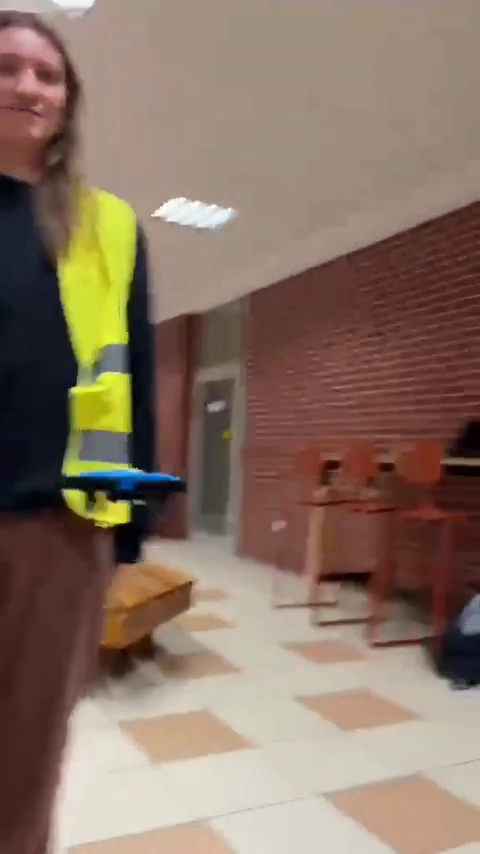drone: (71, 466, 183, 502)
vest: (0, 60, 161, 854)
